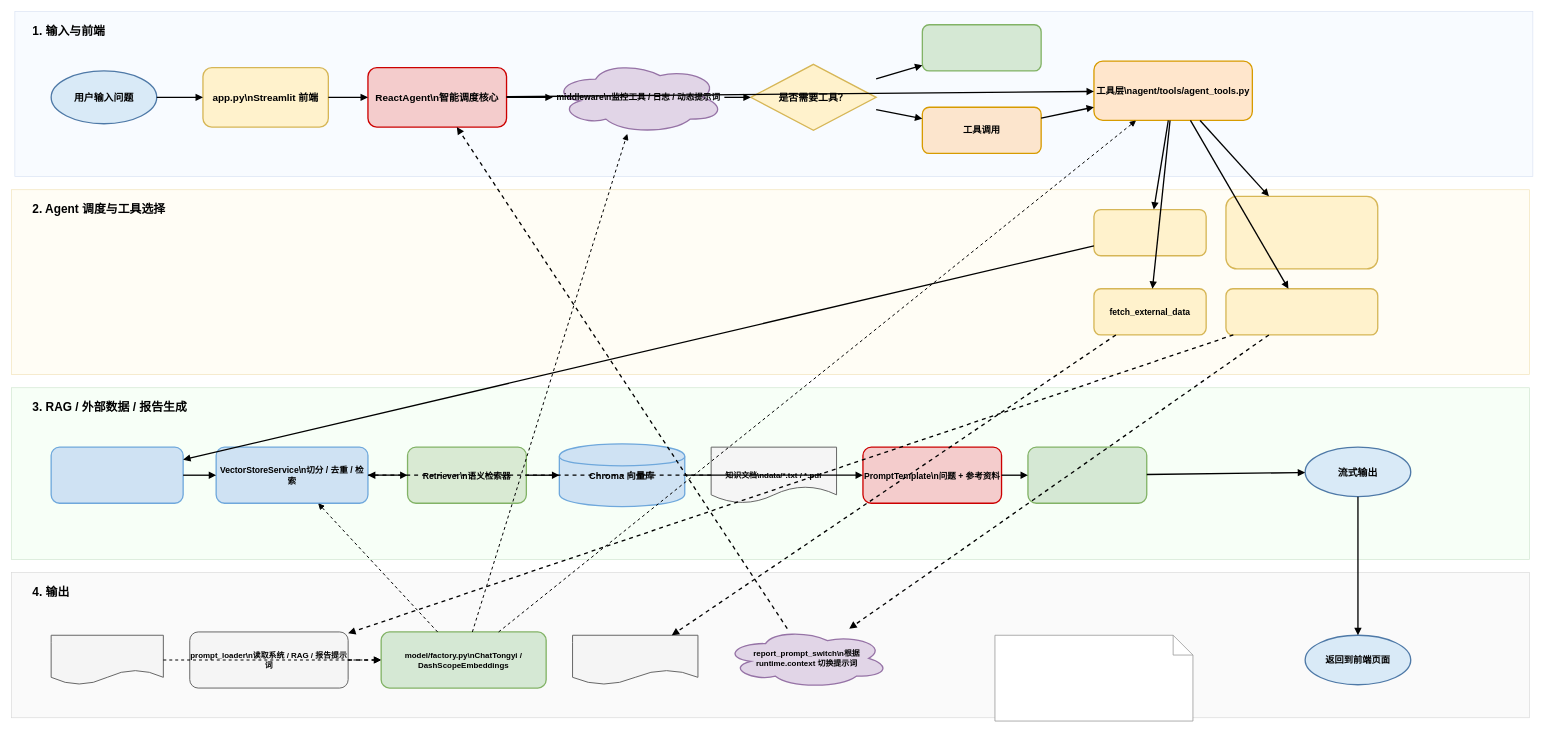
Image size: 1544x733. Some labels were removed from this diagram. The shapes that lost their labels are listed below. From the top down, each one's centre as x and y in pixels, then its label:
At (x=981, y=47): "直接生成回答".
At (x=1149, y=232): "rag_summarize\n知识库问答".
At (x=1301, y=232): "get_weather /\nget_user_location /\nget_user_id /\nget_current_month".
At (x=1301, y=311): "fill_context_for_report\n触发报告模式".
At (x=116, y=475): "RAG 服务\nrag/rag_service.py".
At (x=1087, y=475): "chat_model\n生成最终回答".
At (x=107, y=659): "配置层\nconfig/*.yml".
At (x=635, y=659): "external_data/\n外部 CSV / 使用记录".
At (x=1093, y=678): "颜色说明\n蓝色：RAG / 向量库 / 输出\n黄色：入口与工具\n红色：Agent 与 Prompt\n绿色：模型\n紫色：中间件\n灰色：配置与文件".
